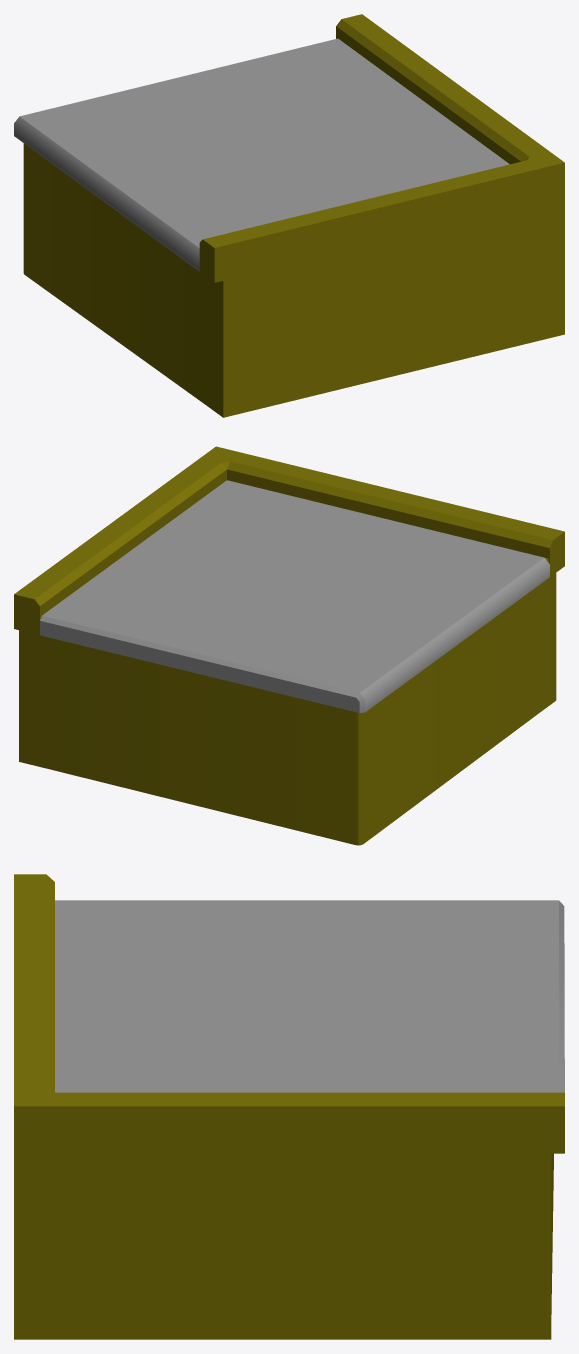
Rendered from CounterRight_Model.FBX.
The picture shows the model from 3 angles, top to bottom: view 1: azimuth 30°, elevation 25°; view 2: azimuth 150°, elevation 25°; view 3: azimuth 270°, elevation 25°; orthographic projection. The views are drawn at different scales.
Parts seen in each view (by area): view 1: CounterRight_Model; view 2: CounterRight_Model; view 3: CounterRight_Model.
Boxes of the visible parts, left/top/right/bottom form: CounterRight_Model: left=14, top=14, right=564, bottom=417; CounterRight_Model: left=14, top=446, right=564, bottom=845; CounterRight_Model: left=14, top=874, right=564, bottom=1339.
Bounding box in the file's own units: 99.8 × 46.78 × 100.
